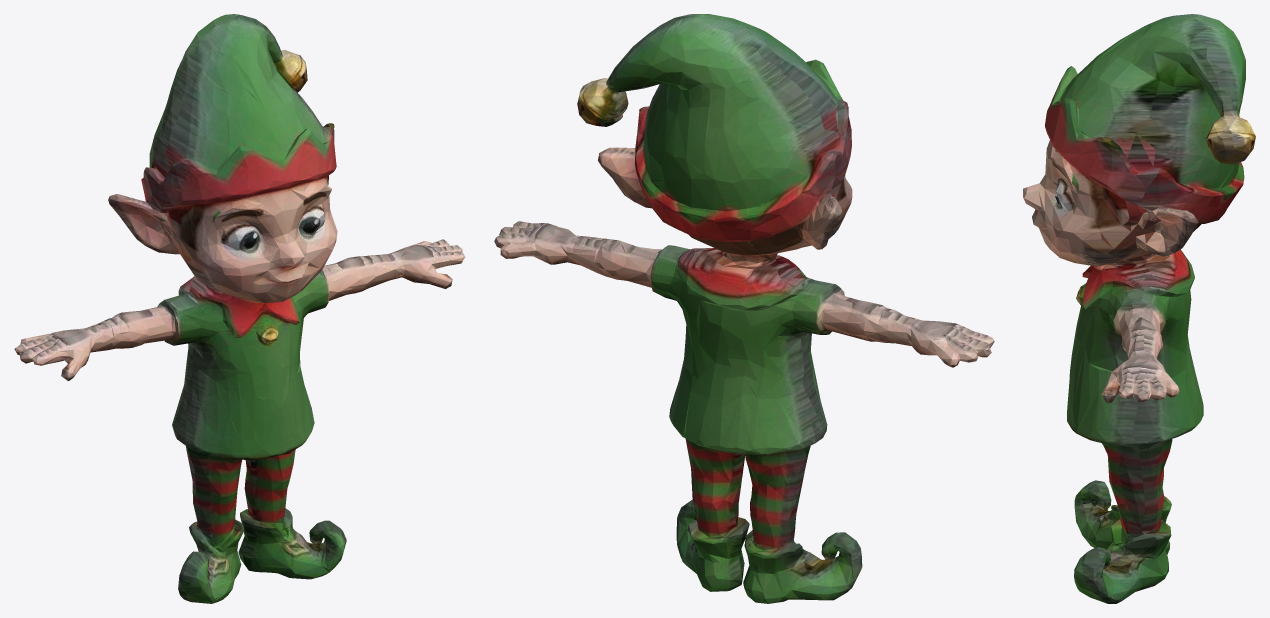
File: v_elf.glb
3 views of the same model, side by side, from view 1: azimuth 30°, elevation 25°; view 2: azimuth 150°, elevation 25°; view 3: azimuth 270°, elevation 25° (orthographic). The views are drawn at different scales.
Visible parts, largest first — view 1: geometry_0; view 2: geometry_0; view 3: geometry_0.
Boxes of the visible parts, bbox=[...] form: geometry_0: bbox=[14, 14, 465, 603]; geometry_0: bbox=[494, 14, 994, 603]; geometry_0: bbox=[1023, 14, 1255, 603].
Size of the model in its own units: 0.8706 by 1 by 0.3758.
1 material, 1 textured.
